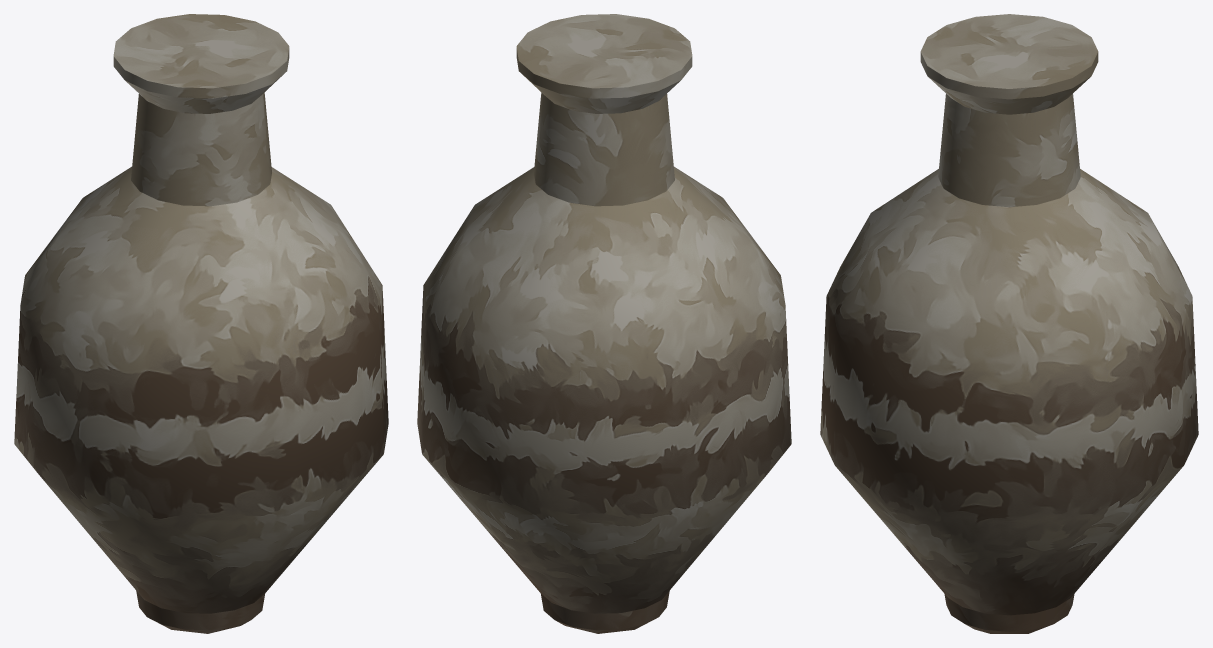
Rendered from waza_4.obj.
3 views of the same model, side by side, from view 1: azimuth 30°, elevation 25°; view 2: azimuth 150°, elevation 25°; view 3: azimuth 270°, elevation 25° (orthographic).
Parts seen in each view (by area): view 1: Vert.001; view 2: Vert.001; view 3: Vert.001.
Boxes of the visible parts, box(x1,y1,x2,y2) form: Vert.001: box(14, 14, 388, 633); Vert.001: box(417, 14, 791, 633); Vert.001: box(820, 14, 1198, 633).
Bounding box in the file's own units: 5.14 × 8.45 × 5.14.
1 material, 1 textured.
